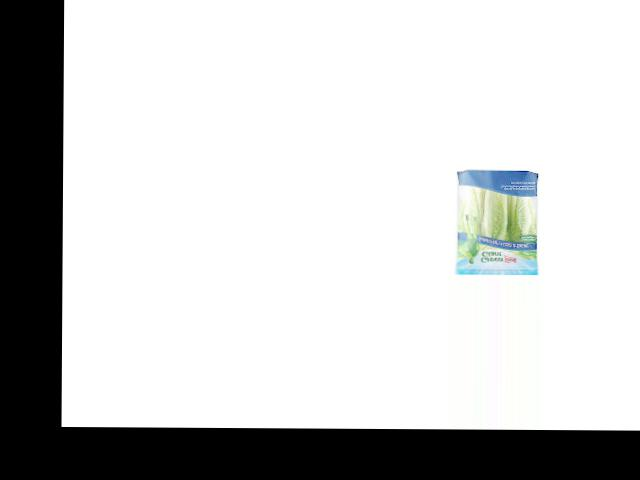lettuce: (453, 165, 539, 270)
